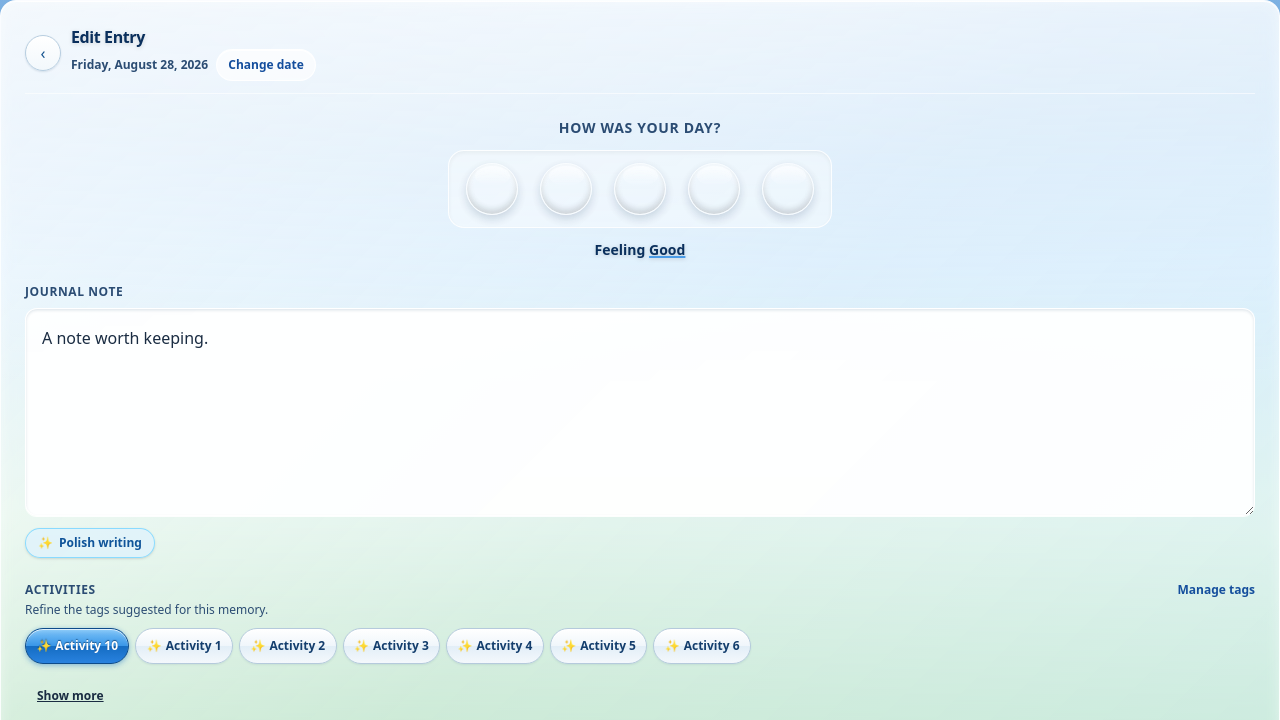
it: NewEntryForm activity state › keeps selected activities visible before revealing the remaining options
This screenshot has width=1280, height=720.
Click the button "Show more" at point(70, 696), box [25,674,116,718]
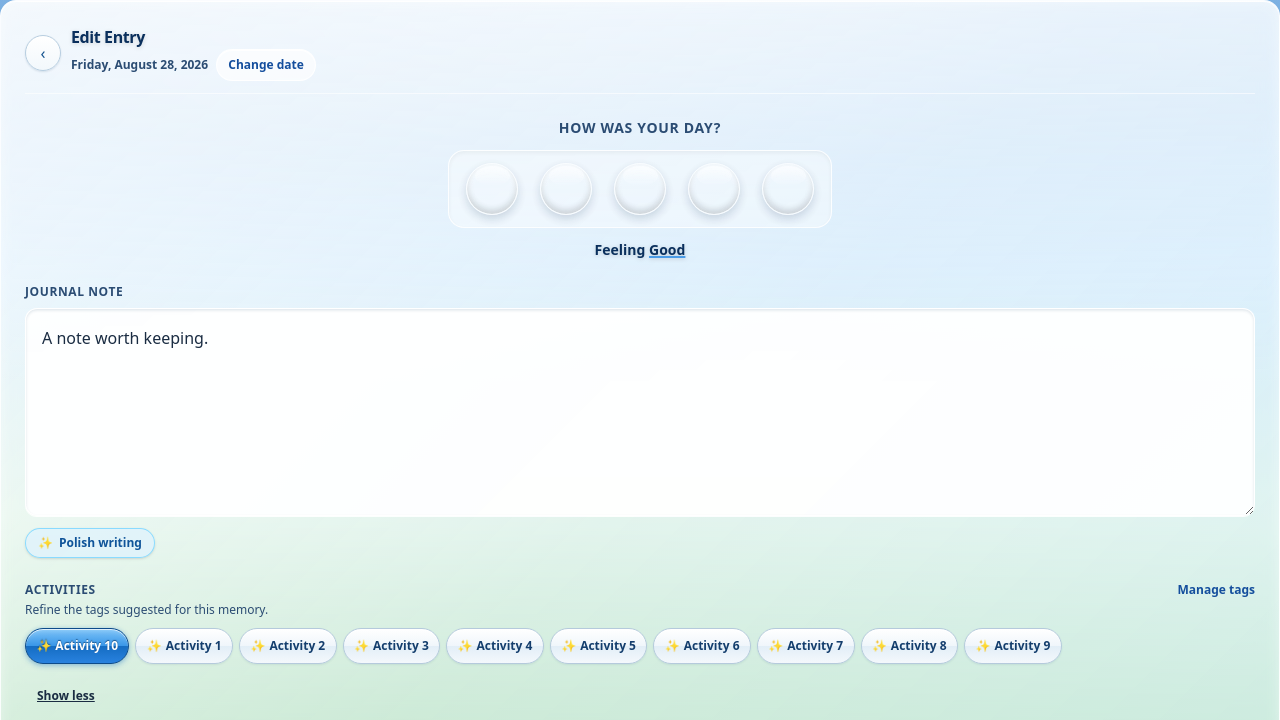
Check: the number of buttons "✨ Activity 10" is 10
Check: the button "Show less" is shown, box [25,674,107,718]
